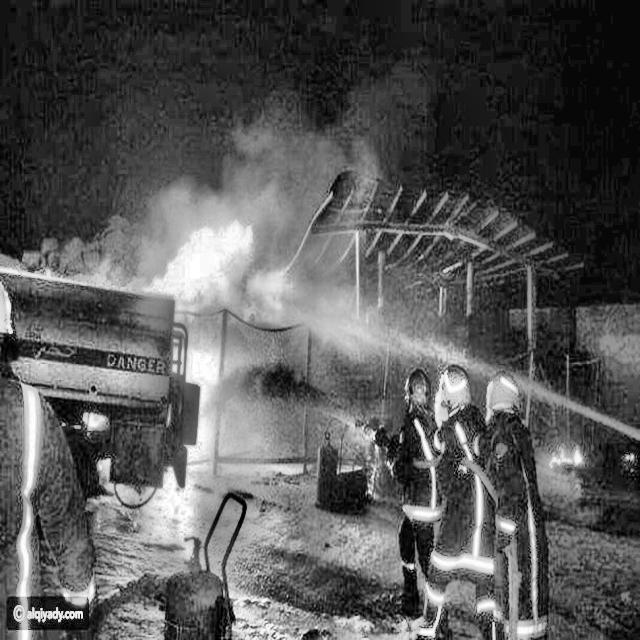fire: (118, 108, 284, 557)
